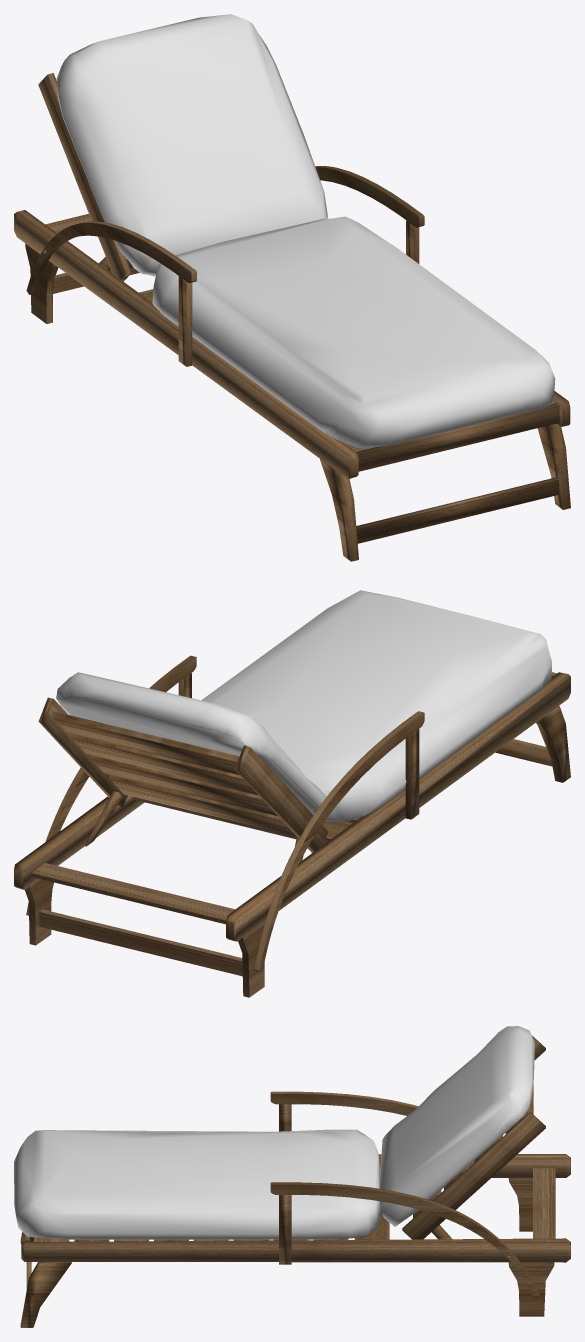
The model's file is lounger.low.glb.
3 renders of one model, top to bottom at view 1: azimuth 30°, elevation 25°; view 2: azimuth 150°, elevation 25°; view 3: azimuth 270°, elevation 25°, orthographic. The views are drawn at different scales.
Visible parts, largest first — view 1: cushion, frame; view 2: cushion, frame; view 3: cushion, frame.
Boxes of the visible parts, x1=… form: cushion: x1=56, y1=14, x2=555, y2=448; frame: x1=14, y1=73, x2=570, y2=561; cushion: x1=56, y1=590, x2=551, y2=822; frame: x1=14, y1=655, x2=570, y2=997; cushion: x1=14, y1=1026, x2=534, y2=1239; frame: x1=20, y1=1036, x2=570, y2=1327.
Size of the model in its own units: 0.6895 by 0.7976 by 1.74.
2 materials, 2 textured.
